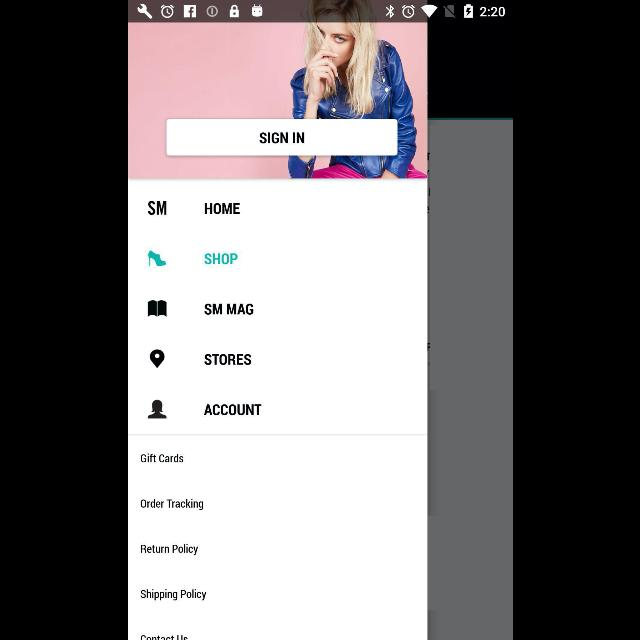icon: (146, 399, 166, 418), (146, 300, 166, 318), (150, 349, 164, 368)
image: (128, 23, 426, 178), (147, 250, 165, 266)
panel: (128, 22, 426, 640)
text: (140, 589, 206, 601), (140, 498, 202, 510), (203, 404, 261, 416), (140, 544, 198, 556), (204, 303, 252, 315), (203, 354, 250, 366), (204, 203, 240, 215), (140, 453, 183, 462), (204, 253, 236, 265), (140, 634, 187, 640), (148, 201, 166, 215)
textbutton: (166, 120, 397, 156)
uppertaskbar: (128, 1, 512, 23)
